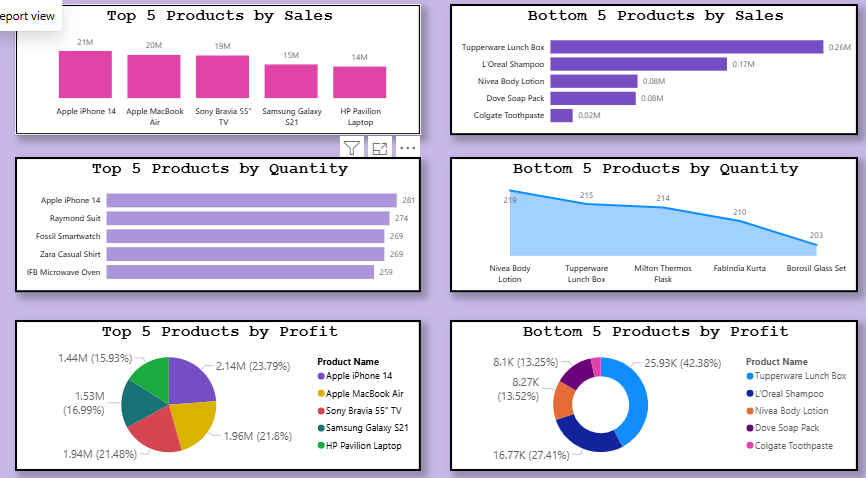

The page's visual inventory and layout, read from the dashboard file:
{"tool":"powerbi","page":{"name":"Top/Bottom 5 Analysis","canvas":[1280,720],"ordinal":0},"visuals":[{"type":"barChart","title":"Top 5 Products by Sales","fields":{"Category":["Dim Product.Product Name"],"Y":["Sum(Fact Table.Net Sale)"]},"box":[22,13.2,594.1,191.7],"z":0},{"type":"barChart","title":"Bottom 5  Products by Sales","fields":{"Category":["Dim Product.Product Name"],"Y":["Sum(Fact Table.Net Sale)"]},"box":[658.5,13.2,597.1,191.7],"z":1000},{"type":"barChart","title":"Top 5 Products by Quantity","fields":{"Category":["Dim Product.Product Name"],"Y":["Sum(Fact Table.Units Sold)"]},"box":[22,237.1,594.1,197.6],"z":2000},{"type":"barChart","title":"Bottom 5  Products by Quantity","fields":{"Category":["Dim Product.Product Name"],"Y":["Sum(Fact Table.Units Sold)"]},"box":[658.5,237.1,597.1,197.6],"z":3000},{"type":"barChart","title":"Top 5 Products by Profit","fields":{"Category":["Dim Product.Product Name"],"Y":["Sum(Fact Table.Profit)"]},"box":[22,475.6,594.1,221],"z":4000},{"type":"barChart","title":"Bottom 5  Products by Profit","fields":{"Category":["Dim Product.Product Name"],"Y":["Sum(Fact Table.Profit)"]},"box":[658.5,475.6,597.1,221],"z":5000}]}

Visuals, with their boxes in screenshot pixels (x1, y1, x2, y2):
"Top 5 Products by Sales" barChart: crop(15, 4, 418, 135)
"Bottom 5  Products by Sales" barChart: crop(447, 4, 852, 135)
"Top 5 Products by Quantity" barChart: crop(15, 156, 418, 291)
"Bottom 5  Products by Quantity" barChart: crop(447, 156, 852, 291)
"Top 5 Products by Profit" barChart: crop(15, 318, 418, 468)
"Bottom 5  Products by Profit" barChart: crop(447, 318, 852, 468)
